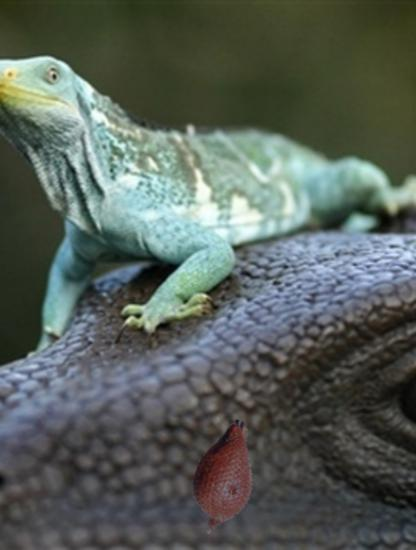Salak: (167, 419, 284, 536)
